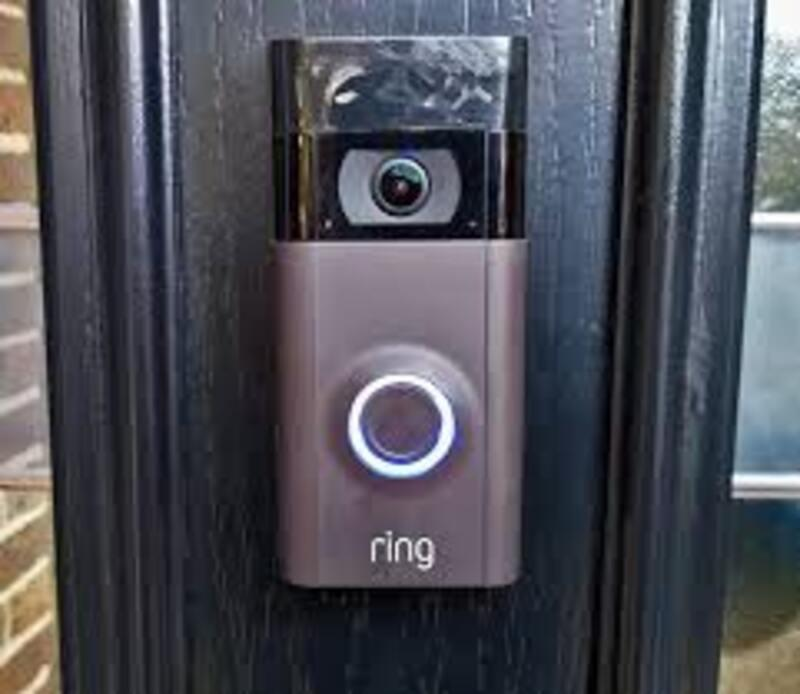doorbell: (253, 39, 544, 593)
